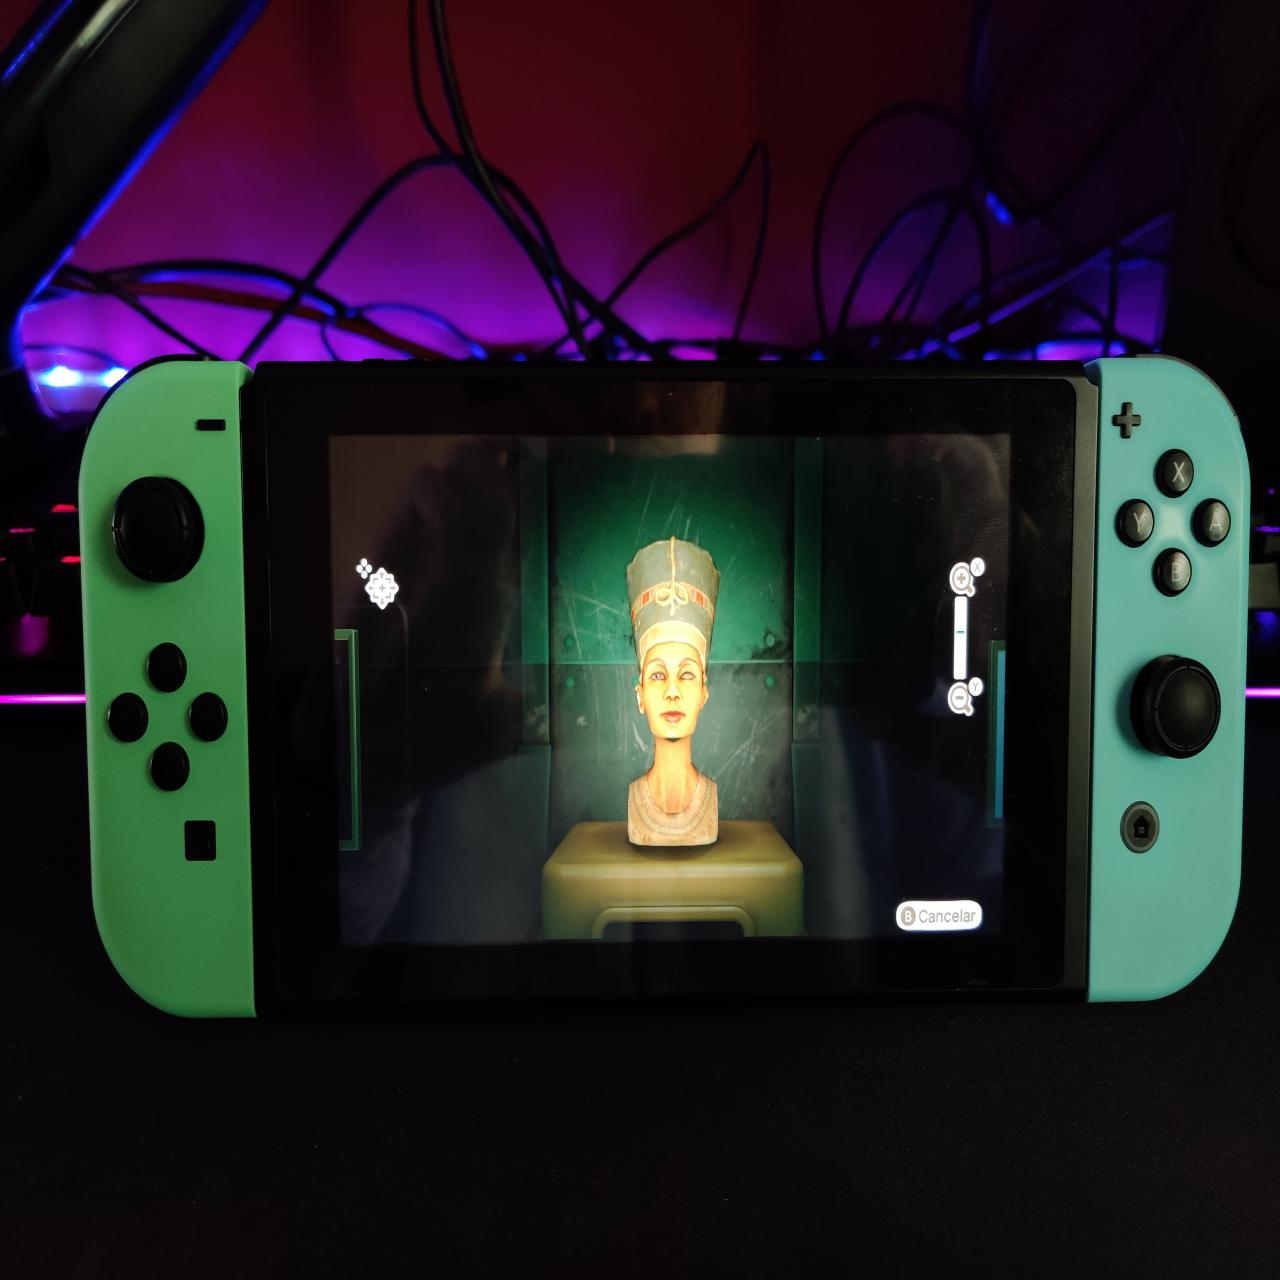Nefertiti: (625, 532, 724, 849)
